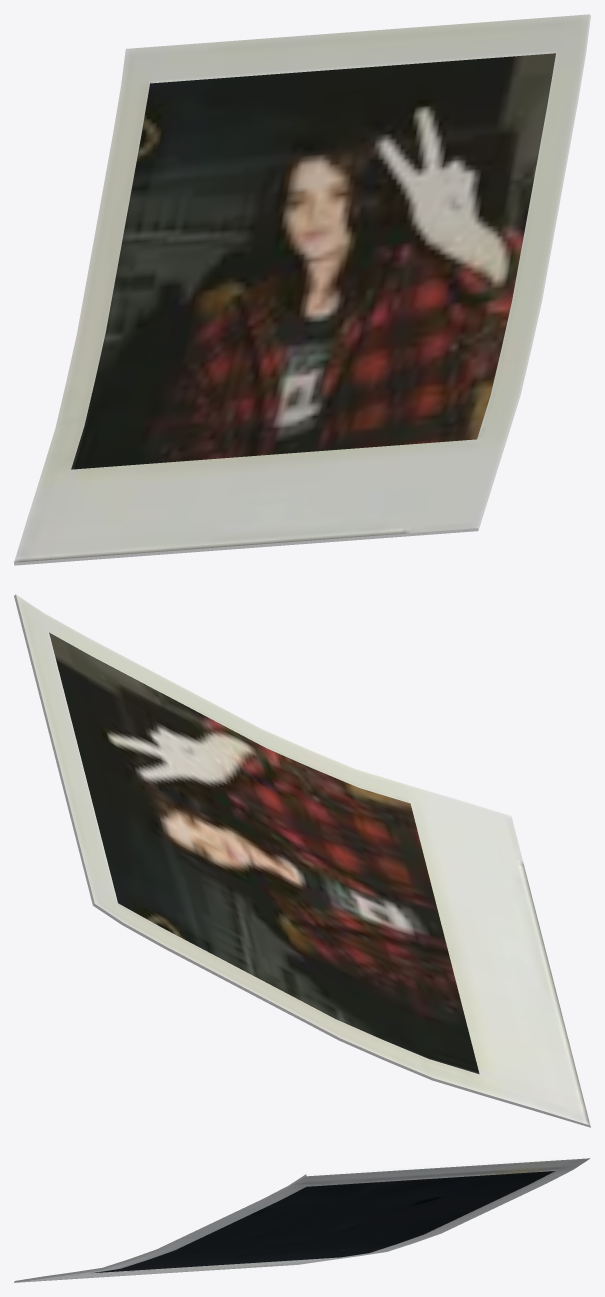
The model's file is photograph.glb.
The picture shows the model from 3 angles, top to bottom: view 1: azimuth 30°, elevation 25°; view 2: azimuth 150°, elevation 25°; view 3: azimuth 270°, elevation 25°; orthographic projection. The views are drawn at different scales.
Visible parts, largest first — view 1: Object_3, Object_5; view 2: Object_3, Object_5; view 3: Object_4, Object_5.
Part boxes in pixels (box(x1,y1,x2,y2)): Object_3: box(71, 53, 555, 469); Object_5: box(14, 14, 590, 565); Object_3: box(49, 632, 479, 1074); Object_5: box(14, 594, 590, 1127); Object_4: box(95, 1171, 554, 1272); Object_5: box(14, 1156, 590, 1282).
Size of the model in its own units: 27.2 by 18.12 by 31.5.
3 materials, 3 textured.
